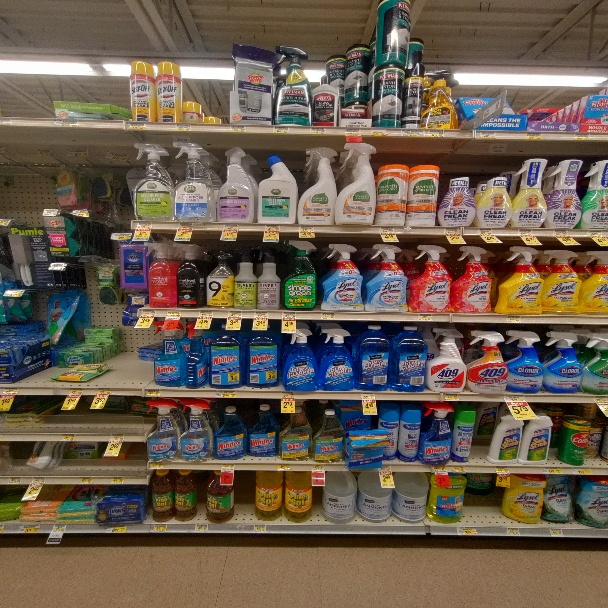All PRICE TAGS: (53, 118, 78, 126), (18, 524, 40, 533), (457, 526, 477, 535), (542, 466, 562, 474), (505, 394, 525, 402), (105, 525, 127, 532), (5, 289, 23, 297), (571, 467, 591, 474), (479, 131, 496, 139), (218, 390, 237, 397), (401, 130, 422, 136), (445, 228, 463, 235), (254, 311, 269, 319), (526, 132, 541, 140), (128, 122, 145, 129), (228, 125, 245, 132), (111, 233, 130, 239), (195, 524, 209, 532), (72, 210, 88, 217), (52, 524, 66, 532), (494, 466, 510, 473), (445, 393, 459, 401), (506, 315, 520, 323), (553, 230, 569, 237), (152, 524, 167, 531), (361, 393, 376, 400), (145, 389, 160, 396), (281, 312, 296, 319), (2, 388, 17, 395), (587, 230, 602, 237), (518, 229, 533, 236), (574, 133, 589, 140), (176, 124, 191, 131), (310, 127, 325, 134), (137, 222, 152, 229), (301, 225, 316, 232), (141, 310, 156, 317), (199, 310, 214, 317), (550, 528, 563, 536), (428, 130, 445, 136), (253, 525, 267, 532), (418, 314, 432, 321), (321, 312, 335, 319), (280, 391, 294, 398), (110, 434, 124, 441), (110, 477, 124, 484), (31, 477, 45, 484), (167, 311, 181, 318), (228, 311, 242, 318), (595, 395, 607, 403), (344, 128, 360, 134), (312, 464, 325, 471), (43, 209, 56, 216), (79, 477, 92, 484), (8, 477, 21, 484), (506, 528, 519, 535), (479, 228, 492, 235), (220, 464, 235, 470), (223, 225, 238, 231), (380, 228, 395, 234), (96, 389, 110, 395), (452, 466, 466, 472), (274, 127, 288, 133), (178, 224, 192, 230), (265, 225, 279, 231), (379, 465, 392, 471), (277, 463, 290, 469), (61, 434, 74, 440), (434, 466, 447, 472), (70, 389, 82, 395)
